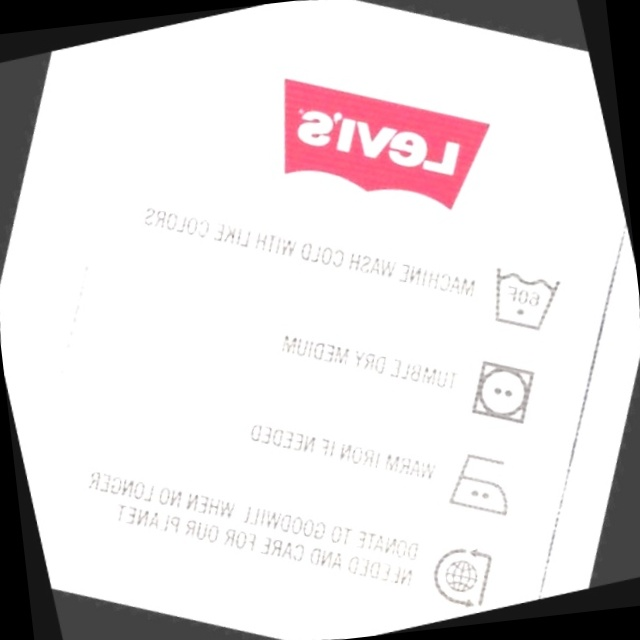30C: (474, 244, 575, 348)
iron_medium: (428, 433, 530, 535)
tumble_dry_medium: (450, 341, 551, 441)
